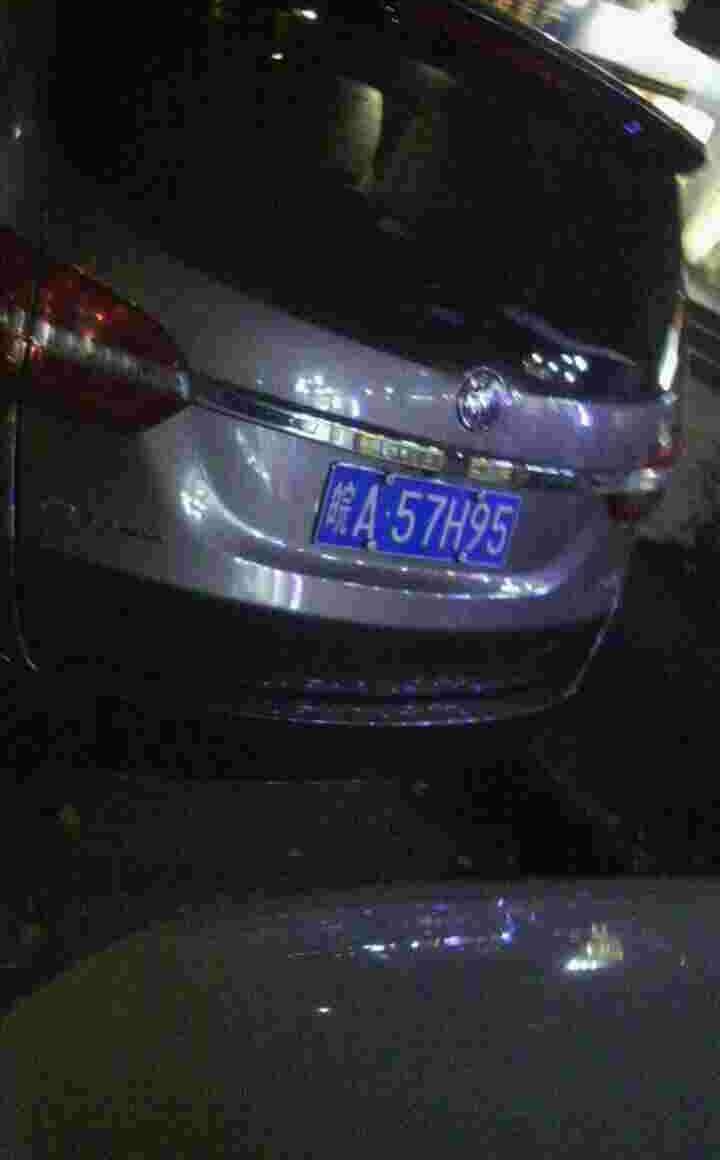car: (319, 454, 528, 568)
